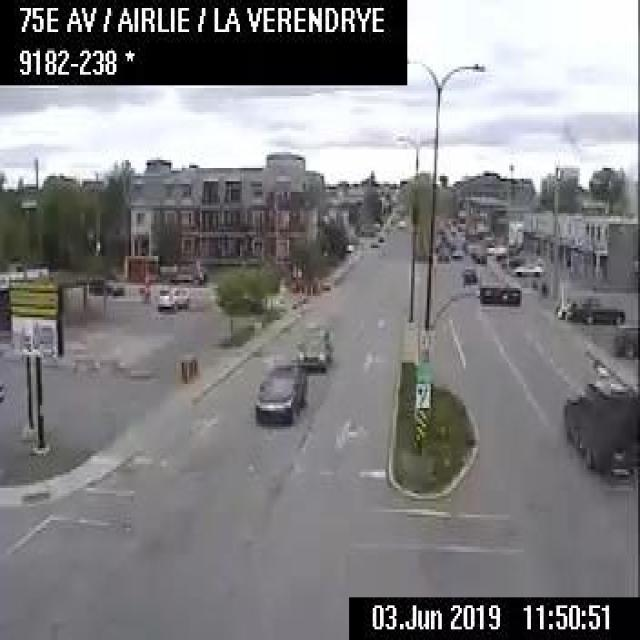construction: (186, 358, 192, 382), (178, 359, 183, 381), (183, 360, 188, 382), (190, 356, 195, 376)
vehicle: (560, 373, 638, 475), (253, 359, 302, 422), (295, 327, 332, 370), (572, 297, 624, 323), (609, 323, 637, 358), (88, 272, 128, 296), (155, 286, 186, 312), (169, 266, 204, 283), (511, 259, 544, 275), (460, 265, 477, 285), (449, 246, 465, 259), (368, 237, 379, 247), (395, 218, 404, 227), (376, 233, 385, 241)
